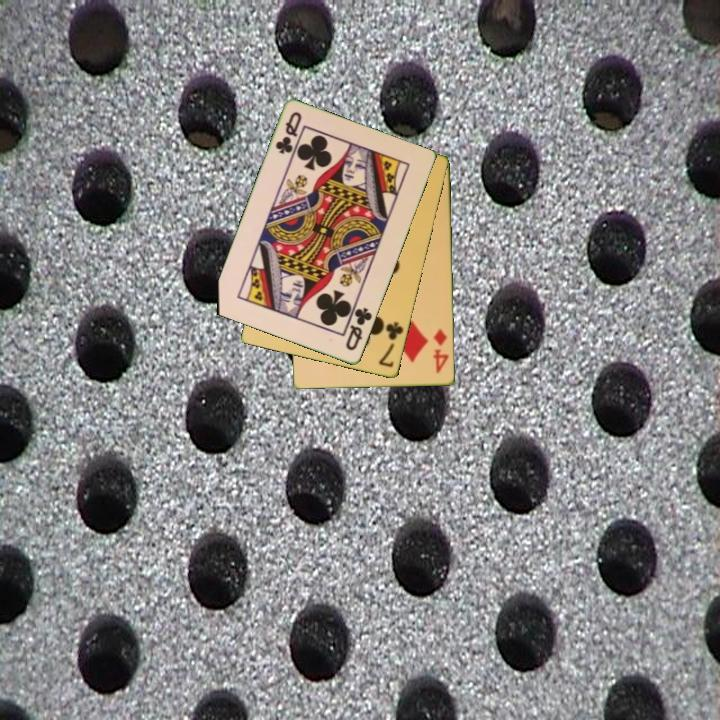4d: (430, 326, 451, 377)
7c: (375, 318, 406, 370)
Qc: (342, 304, 375, 354), (272, 108, 305, 157)
